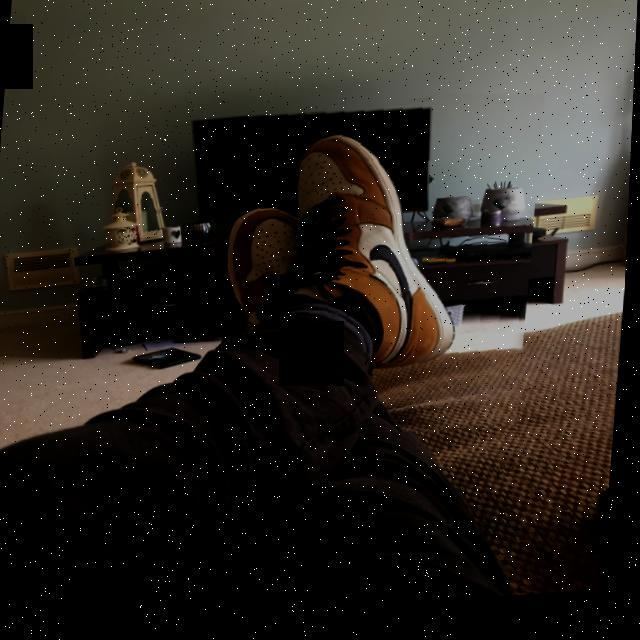shoe: (217, 76, 547, 455)
